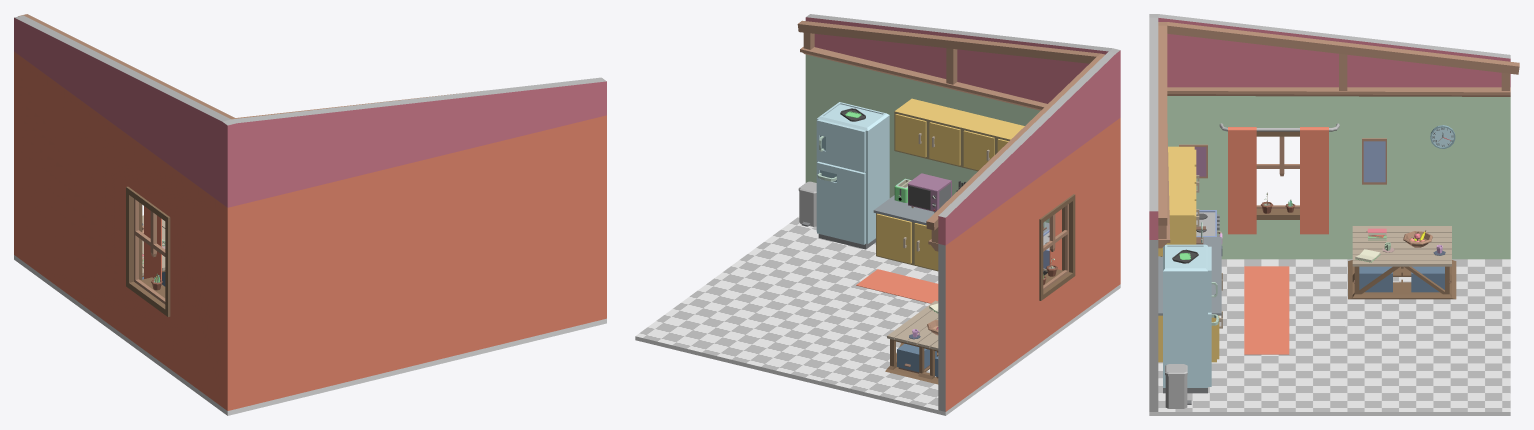
File: LowPolyKitchen.fbx
The picture shows the model from 3 angles, left to right: view 1: azimuth 30°, elevation 25°; view 2: azimuth 150°, elevation 25°; view 3: azimuth 270°, elevation 25°; orthographic projection. The views are drawn at different scales.
Visible parts, largest first — view 1: Wall, Winow, Floor; view 2: Wall, Floor, Refrigerator, TopCabinet1, Counter1, Table, Winow, TopCabinet2, Plane, Oven, TrashCan; view 3: Wall, Floor, Winow, Table, Refrigerator, Plane, TopCabinet1, Counter1, Painting.001, TopCabinet2, TrashCan, Sink (+5 smaller).
Part boxes in pixels (left/top/right/bottom): Wall: left=14, top=14, right=606, bottom=410; Winow: left=126, top=186, right=170, bottom=316; Floor: left=14, top=255, right=606, bottom=415; Wall: left=797, top=14, right=1120, bottom=411; Floor: left=635, top=216, right=1120, bottom=415; Refrigerator: left=816, top=102, right=889, bottom=249; TopCabinet1: left=894, top=98, right=979, bottom=167; Counter1: left=873, top=195, right=938, bottom=271; Table: left=885, top=300, right=938, bottom=384; Winow: left=1039, top=194, right=1075, bottom=300; TopCabinet2: left=962, top=115, right=1024, bottom=171; Plane: left=856, top=269, right=938, bottom=303; Oven: left=908, top=173, right=951, bottom=212; TrashCan: left=798, top=181, right=816, bottom=226; Wall: left=1149, top=14, right=1519, bottom=411; Floor: left=1149, top=259, right=1510, bottom=415; Winow: left=1219, top=123, right=1339, bottom=234; Table: left=1348, top=226, right=1456, bottom=299; Refrigerator: left=1163, top=244, right=1218, bottom=393; Plane: left=1244, top=266, right=1289, bottom=354; TopCabinet1: left=1158, top=181, right=1199, bottom=256; Counter1: left=1158, top=275, right=1222, bottom=362; Painting.001: left=1362, top=138, right=1386, bottom=184; TopCabinet2: left=1168, top=146, right=1199, bottom=192; TrashCan: left=1165, top=364, right=1191, bottom=408; Sink: left=1158, top=237, right=1222, bottom=290.
Size of the model in its own units: 835 by 600 by 820.
